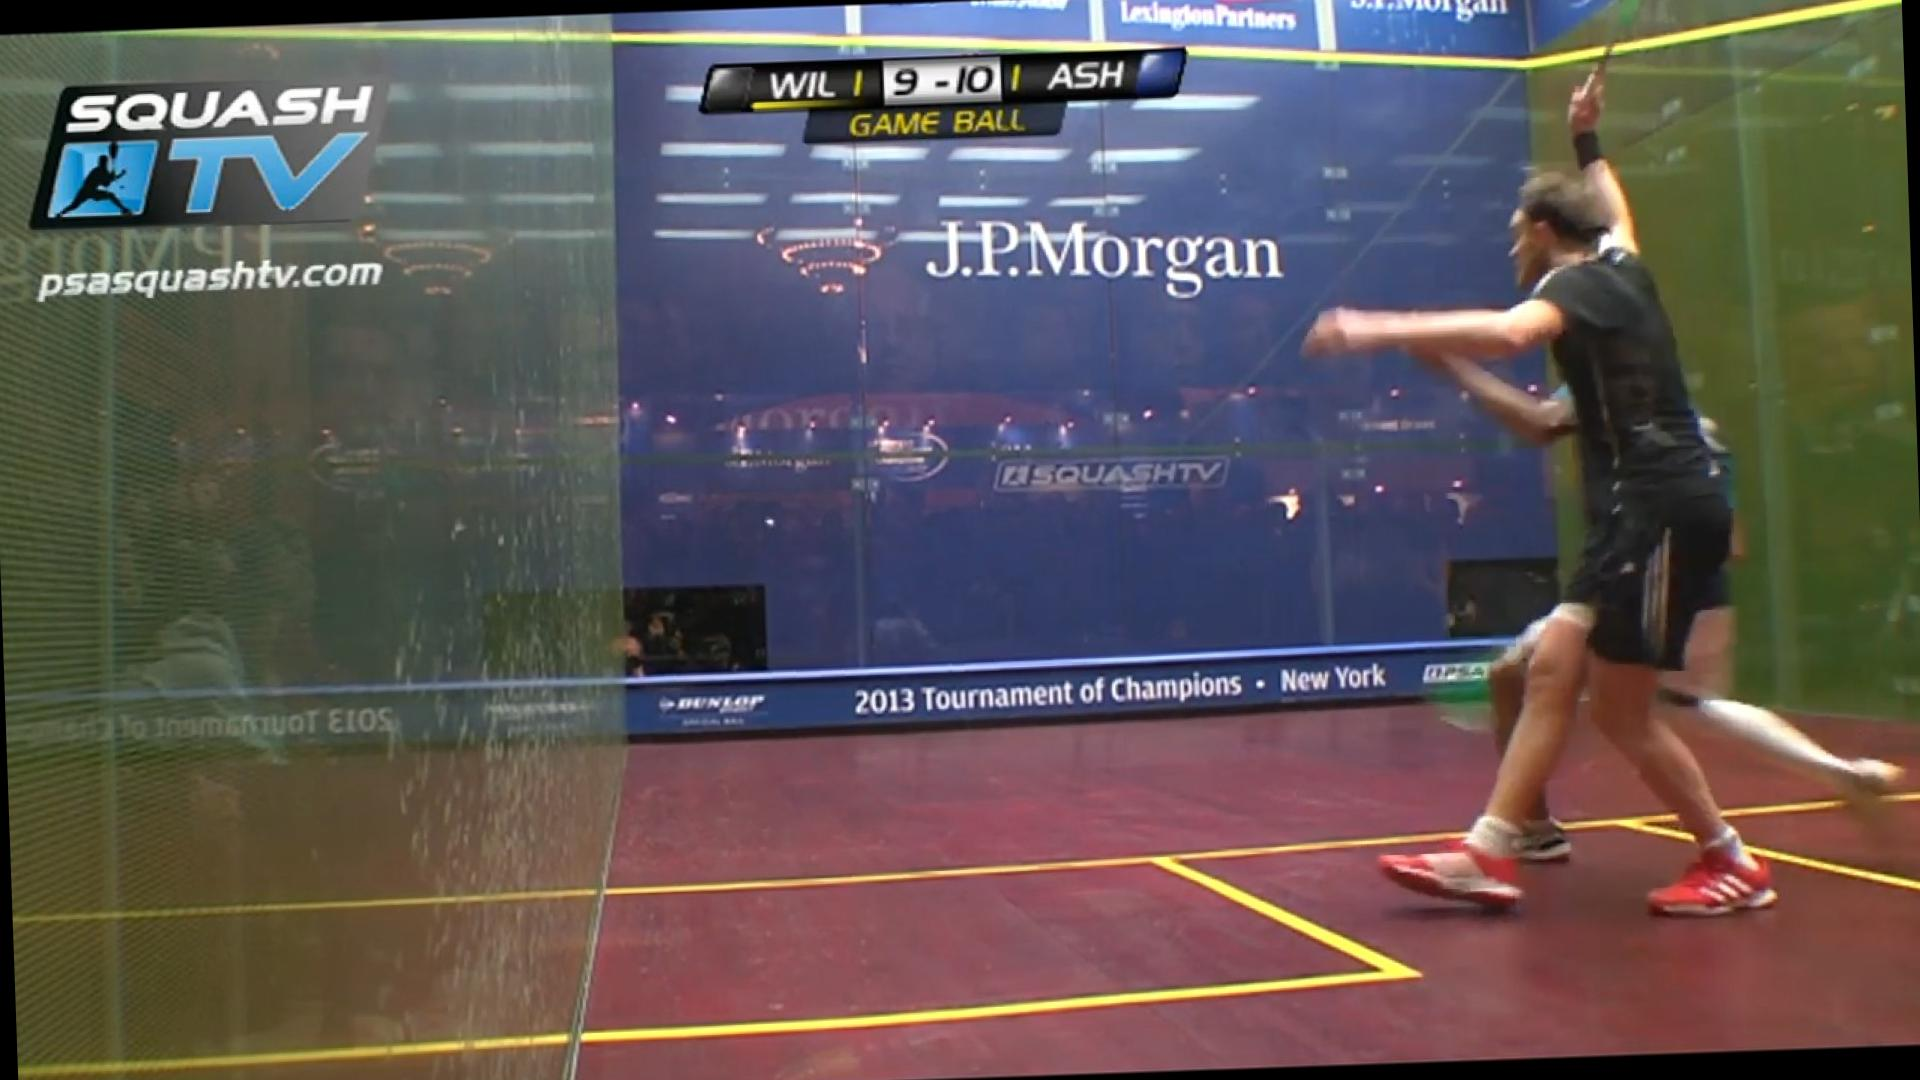Squash-Ball: (758, 505, 785, 538)
